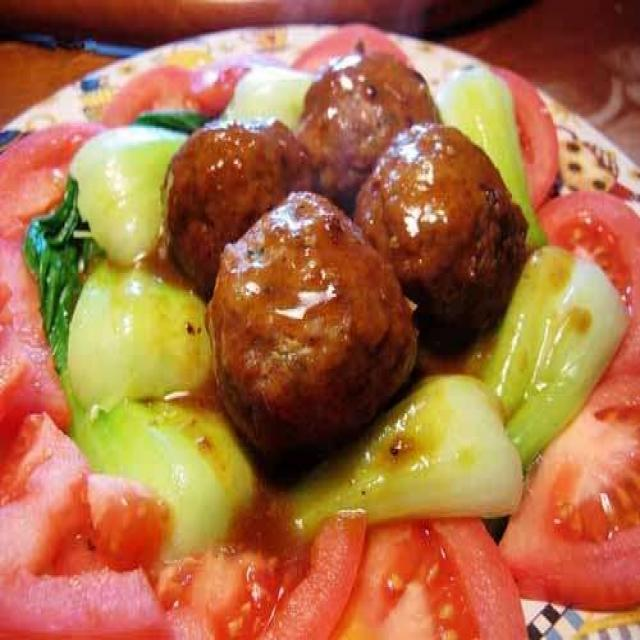Meatball: (203, 186, 420, 464), (351, 111, 534, 345), (155, 106, 321, 292), (293, 44, 448, 222)
